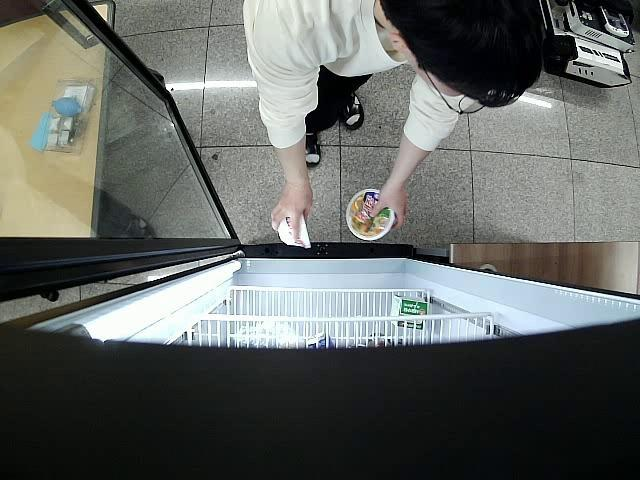09_yukGaeJang: (345, 190, 396, 240), (274, 212, 312, 251)
